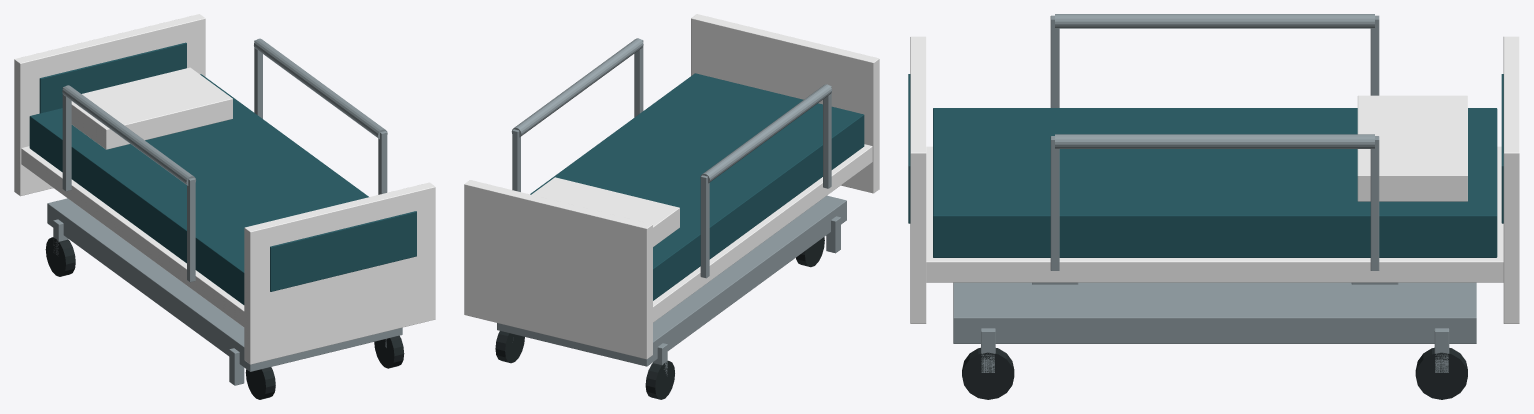
The model's file is source-edit.glb.
The picture shows the model from 3 angles, left to right: view 1: azimuth 30°, elevation 25°; view 2: azimuth 150°, elevation 25°; view 3: azimuth 270°, elevation 25°; orthographic projection. The views are drawn at different scales.
Parts seen in each view (by area): view 1: Mattress, End_Post, Chassis, End_Post.001, Pillow, Inset, Deck, Inset.001, Safety_Rail, Safety_Rail.001, Caster.002, Rail_Upright.001 (+6 smaller); view 2: Mattress, End_Post.001, End_Post, Chassis, Deck, Pillow, Safety_Rail.001, Safety_Rail, Rail_Upright.001, Caster.002, Rail_Upright, Caster (+4 smaller); view 3: Mattress, Chassis, Deck, Pillow, End_Post.001, End_Post, Safety_Rail, Safety_Rail.001, Caster, Caster.003, Rail_Upright.002, Rail_Upright.003 (+4 smaller).
Boxes of the visible parts, x1=… form: Mattress: x1=29, y1=74, x2=368, y2=304; End_Post: x1=244, y1=182, x2=435, y2=364; Chassis: x1=47, y1=198, x2=402, y2=371; End_Post.001: x1=14, y1=14, x2=205, y2=196; Pillow: x1=71, y1=67, x2=232, y2=149; Inset: x1=270, y1=211, x2=416, y2=291; Deck: x1=21, y1=146, x2=244, y2=327; Inset.001: x1=39, y1=42, x2=186, y2=113; Safety_Rail: x1=62, y1=85, x2=195, y2=185; Safety_Rail.001: x1=254, y1=38, x2=387, y2=139; Caster.002: x1=45, y1=237, x2=75, y2=276; Rail_Upright.001: x1=62, y1=86, x2=71, y2=191; Mattress: x1=530, y1=73, x2=864, y2=300; End_Post.001: x1=464, y1=180, x2=652, y2=359; End_Post: x1=691, y1=14, x2=879, y2=193; Chassis: x1=497, y1=195, x2=846, y2=366; Deck: x1=653, y1=144, x2=872, y2=322; Pillow: x1=531, y1=177, x2=679, y2=246; Safety_Rail.001: x1=511, y1=38, x2=643, y2=137; Safety_Rail: x1=700, y1=84, x2=832, y2=183; Rail_Upright.001: x1=700, y1=175, x2=709, y2=278; Caster.002: x1=645, y1=360, x2=674, y2=399; Rail_Upright: x1=823, y1=85, x2=831, y2=188; Caster: x1=495, y1=331, x2=524, y2=363; Mattress: x1=933, y1=108, x2=1497, y2=257; Chassis: x1=953, y1=282, x2=1476, y2=343; Deck: x1=926, y1=146, x2=1503, y2=282; Pillow: x1=1357, y1=95, x2=1467, y2=201; End_Post.001: x1=1503, y1=36, x2=1519, y2=323; End_Post: x1=910, y1=36, x2=926, y2=323; Safety_Rail: x1=1055, y1=14, x2=1374, y2=28; Safety_Rail.001: x1=1055, y1=134, x2=1374, y2=148; Caster: x1=1415, y1=347, x2=1467, y2=399; Caster.003: x1=962, y1=347, x2=1014, y2=399; Rail_Upright.002: x1=1050, y1=136, x2=1059, y2=270; Rail_Upright.003: x1=1370, y1=136, x2=1379, y2=270.
Bounding box in the file's own units: 1.03 × 1.04 × 2.1.
